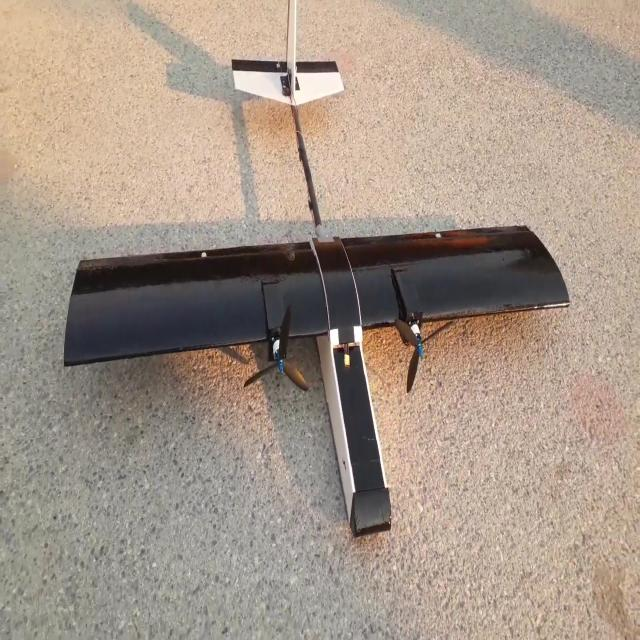iha: (61, 55, 568, 530)
